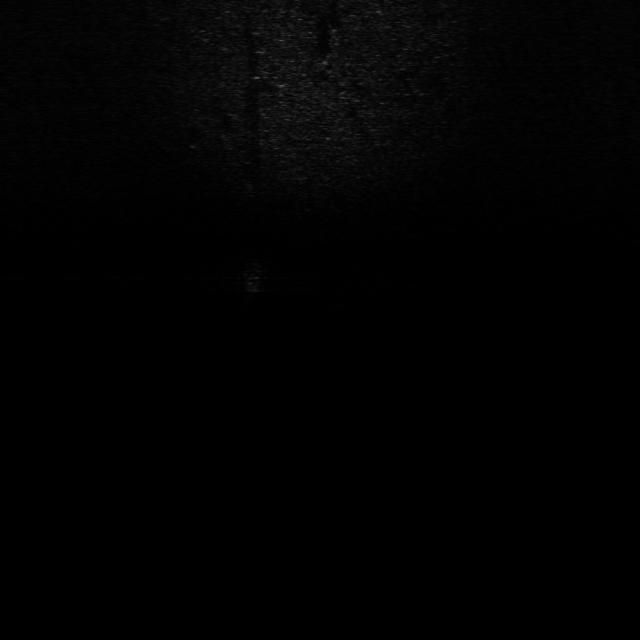human body: (238, 256, 268, 302)
